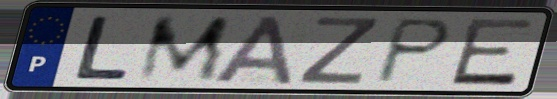A: (209, 13, 297, 87)
E: (445, 16, 538, 88)
L: (70, 13, 133, 82)
M: (133, 14, 235, 84)
P: (369, 16, 456, 86)
Z: (294, 15, 384, 87)
